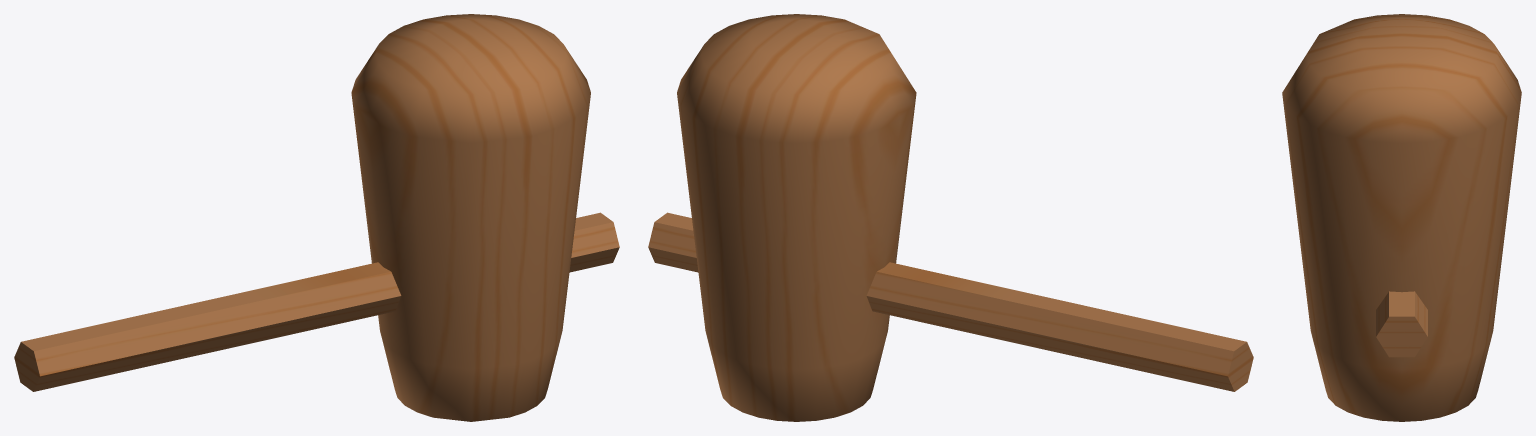
File: Pestle.fbx
3 views of the same model, side by side, from view 1: azimuth 30°, elevation 25°; view 2: azimuth 150°, elevation 25°; view 3: azimuth 270°, elevation 25° (orthographic).
Visible parts, largest first — view 1: Pestle; view 2: Pestle; view 3: Pestle.
Part boxes in pixels (x1,y1,x2,y2): Pestle: [14, 14, 619, 421]; Pestle: [648, 14, 1253, 421]; Pestle: [1282, 14, 1521, 421].
Bounding box in the file's own units: 110 × 66.91 × 39.37.
Materials: 1 (1 with a texture image).
